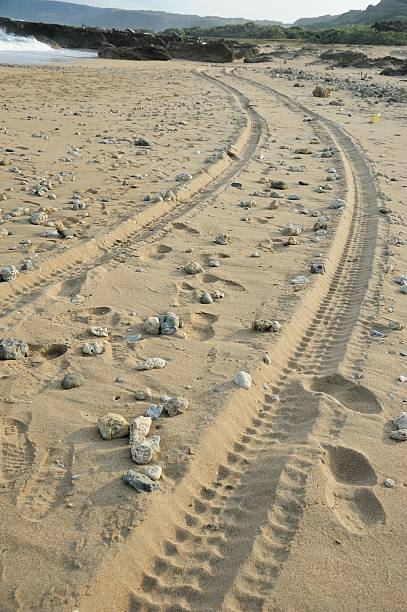vehicle_track: (129, 77, 376, 611), (0, 81, 264, 330)
